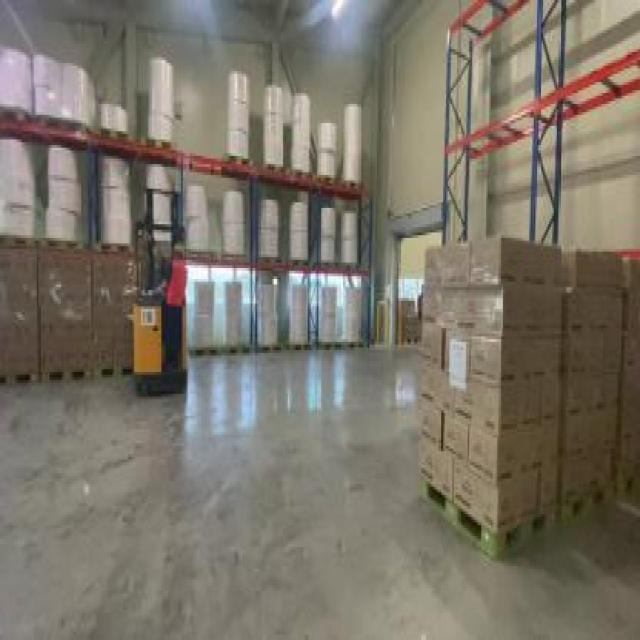box: (414, 249, 566, 569), (548, 249, 622, 525), (1, 246, 136, 380), (611, 265, 638, 528), (398, 293, 420, 350)
person: (158, 246, 191, 372)
robot: (133, 180, 190, 400)
white_roll: (30, 52, 101, 134), (40, 145, 82, 252), (1, 145, 38, 246), (97, 156, 134, 246), (143, 164, 179, 254), (220, 66, 251, 166), (143, 58, 172, 150), (260, 82, 285, 178), (1, 46, 32, 120), (183, 178, 209, 260), (189, 282, 214, 361), (340, 279, 365, 350), (289, 197, 314, 268), (254, 285, 281, 350), (255, 197, 280, 265), (291, 93, 311, 178), (343, 104, 362, 189), (223, 189, 245, 260), (98, 93, 131, 137), (224, 282, 244, 353), (317, 279, 337, 350), (288, 279, 309, 345), (317, 120, 337, 180), (338, 213, 360, 266), (318, 205, 338, 260)
